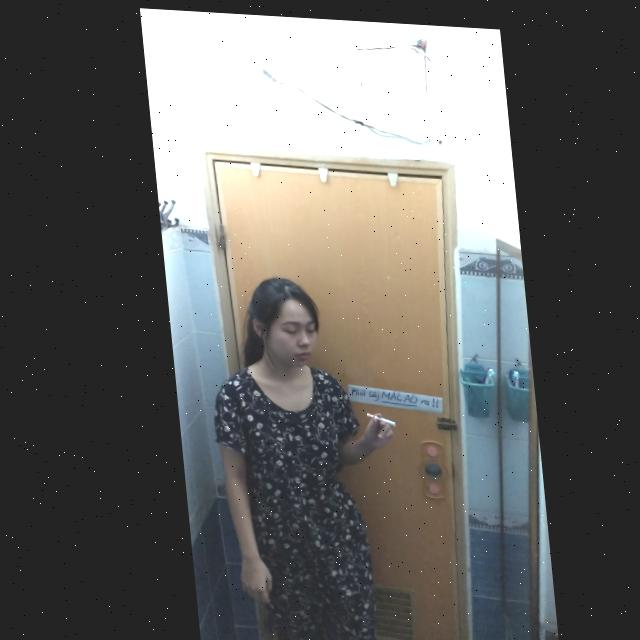cigarette: (359, 408, 388, 422)
